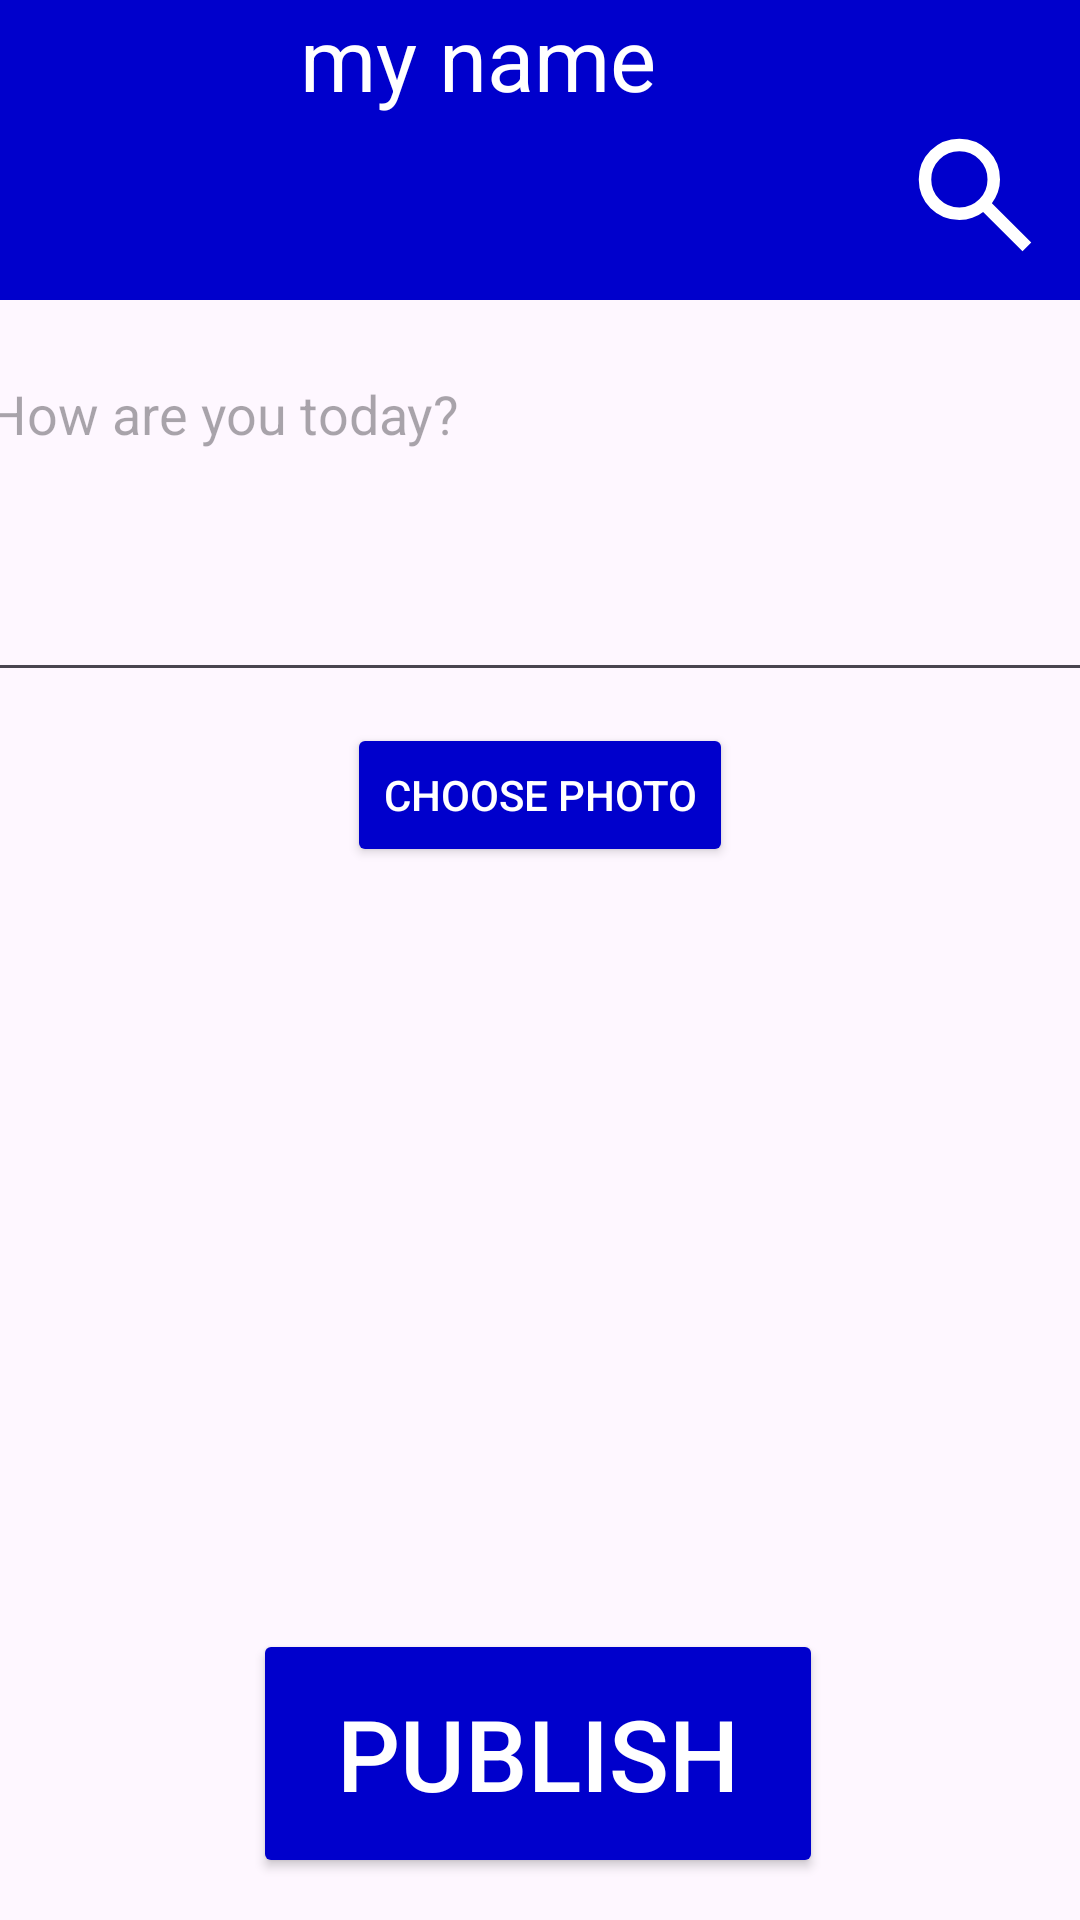

Screen size 1080x1920. Icon name, then its center in pixels as point (x, y):
search: point (974, 194)
